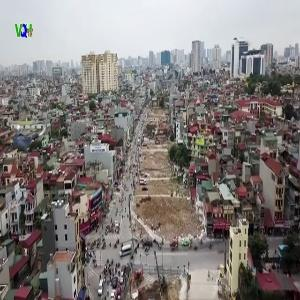drone: (3, 116, 49, 162)
